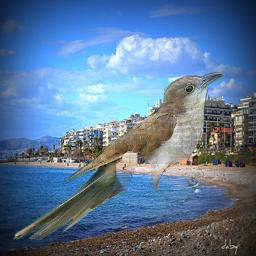Cuckoo: (13, 72, 224, 241)
